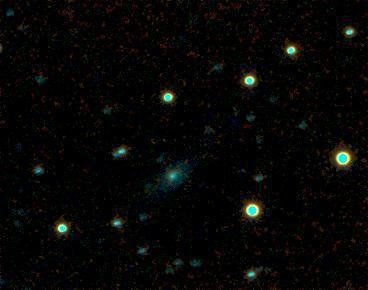star: (227, 105, 257, 135)
